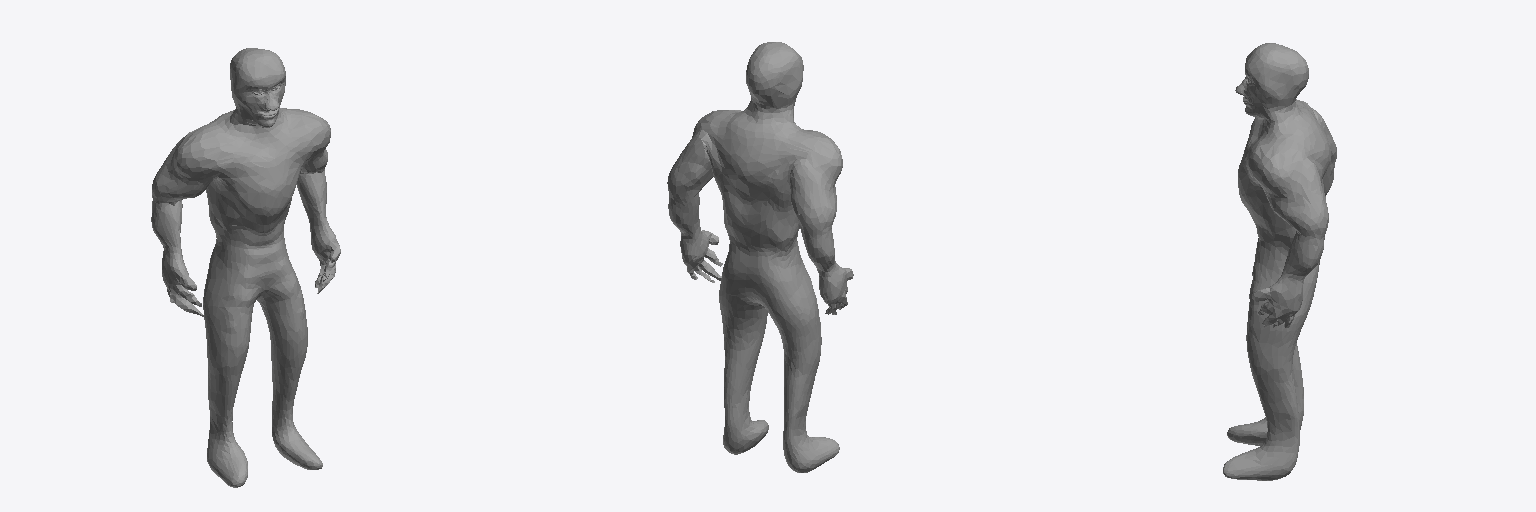
Rendered from Cena.obj.
3 views of the same model, side by side, from view 1: azimuth 30°, elevation 25°; view 2: azimuth 150°, elevation 25°; view 3: azimuth 270°, elevation 25° (orthographic).
Visible parts, largest first — view 1: Cena_low_Sphere.001; view 2: Cena_low_Sphere.001; view 3: Cena_low_Sphere.001.
Part boxes in pixels (x1,y1,x2,y2): Cena_low_Sphere.001: (151,48,340,487); Cena_low_Sphere.001: (667,42,853,472); Cena_low_Sphere.001: (1223,43,1336,480).
Size of the model in its own units: 0.3917 by 0.9314 by 0.2326.